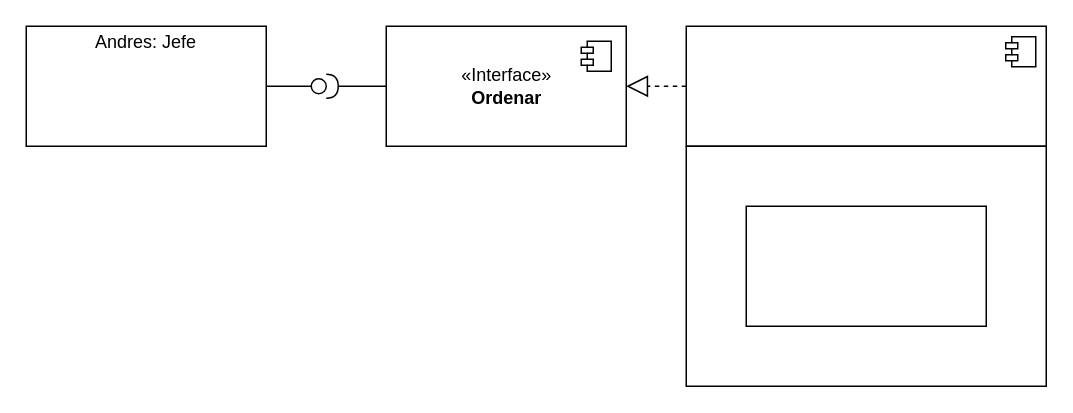
Some shapes in this 1073 by 413 pixel diagram are drawn without their labels. Here are the shapes that lost their labels. From the top down, the box of each, then its label:
(685, 25, 1046, 146): «Component» Mantenimiento
(745, 205, 986, 326): Sergio: Tecnico
